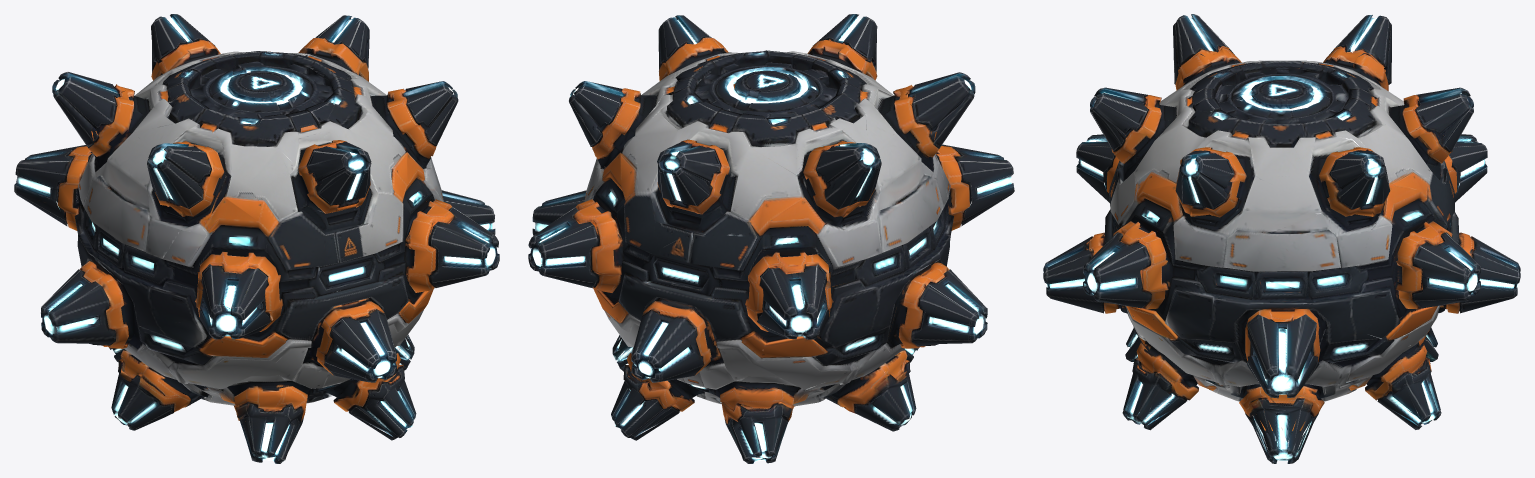
File: space_mine.glb
The picture shows the model from 3 angles, left to right: view 1: azimuth 30°, elevation 25°; view 2: azimuth 150°, elevation 25°; view 3: azimuth 270°, elevation 25°; orthographic projection. The views are drawn at different scales.
Parts seen in each view (by area): view 1: Core, Dial, Spike_06, Spike_10, Spike_07, Spike_13, Spike_00, Spike_01, Spike_05, Spike_09, Spike_02, Spike_15 (+5 smaller); view 2: Core, Dial, Spike_09, Spike_12, Spike_08, Spike_13, Spike_05, Spike_04, Spike_00, Spike_06, Spike_03, Spike_19 (+5 smaller); view 3: Core, Dial, Spike_11, Spike_07, Spike_08, Spike_03, Spike_02, Spike_04, Spike_01, Spike_10, Spike_12, Spike_05 (+6 smaller).
Boxes of the visible parts, bbox=[...] form: Core: bbox=[57, 38, 455, 450]; Dial: bbox=[190, 56, 333, 118]; Spike_06: bbox=[199, 264, 271, 339]; Spike_10: bbox=[324, 309, 397, 382]; Spike_07: bbox=[430, 207, 499, 287]; Spike_13: bbox=[41, 269, 115, 344]; Spike_00: bbox=[147, 142, 217, 208]; Spike_01: bbox=[306, 141, 371, 205]; Spike_05: bbox=[52, 72, 127, 148]; Spike_09: bbox=[14, 145, 86, 226]; Spike_02: bbox=[396, 81, 458, 145]; Spike_15: bbox=[241, 418, 299, 463]; Core: bbox=[572, 37, 971, 453]; Dial: bbox=[694, 55, 837, 117]; Spike_09: bbox=[757, 264, 828, 339]; Spike_12: bbox=[631, 309, 704, 382]; Spike_08: bbox=[528, 207, 598, 288]; Spike_13: bbox=[912, 269, 987, 345]; Spike_05: bbox=[811, 142, 881, 209]; Spike_04: bbox=[657, 141, 721, 205]; Spike_00: bbox=[901, 72, 975, 148]; Spike_06: bbox=[942, 144, 1014, 226]; Spike_03: bbox=[569, 81, 631, 146]; Spike_19: bbox=[727, 418, 786, 463]; Core: bbox=[1083, 48, 1480, 447]; Dial: bbox=[1214, 68, 1349, 124]; Spike_11: bbox=[1246, 314, 1319, 398]; Spike_07: bbox=[1083, 232, 1150, 308]; Spike_08: bbox=[1413, 232, 1480, 308]; Spike_03: bbox=[1329, 148, 1390, 209]; Spike_02: bbox=[1175, 148, 1234, 209]; Spike_04: bbox=[1414, 87, 1473, 151]; Spike_01: bbox=[1090, 87, 1149, 151]; Spike_10: bbox=[1043, 236, 1103, 313]; Spike_12: bbox=[1460, 236, 1520, 313]; Spike_05: bbox=[1329, 15, 1391, 84].
Size of the model in its own units: 0.9806 by 0.6924 by 0.9464.
1 material, 1 textured.
